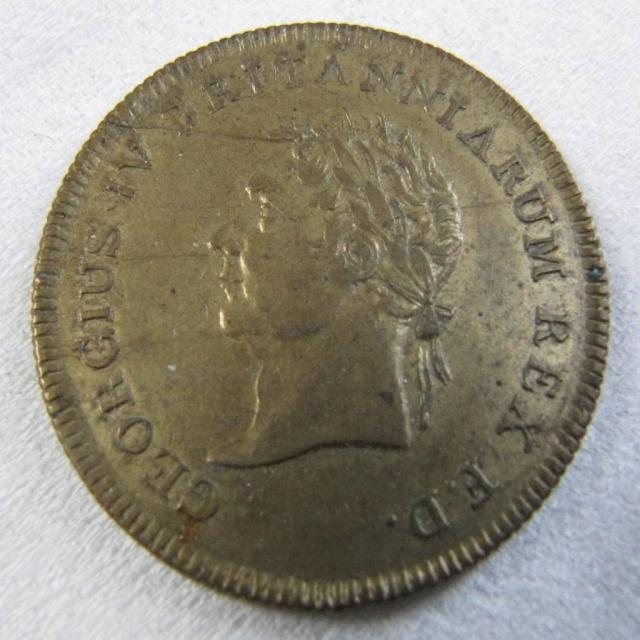Coin: (34, 24, 611, 606)
